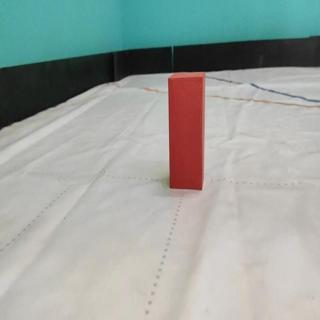redbox: (169, 71, 206, 189)
